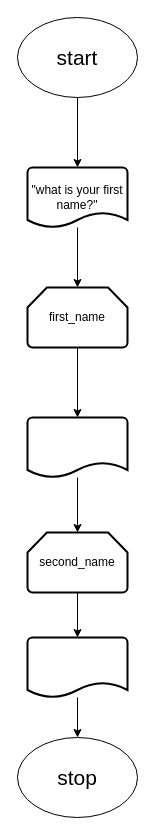
The diagram is 155 pixels wide and 835 high, and some of its shapes have lost their labels. The shapes that lost their labels are listed below. From the top down, each one's centre as x and y in pixels, then its label:
point 77,447: "what is your second name?"
point 77,667: "hello",first_name,second_name
